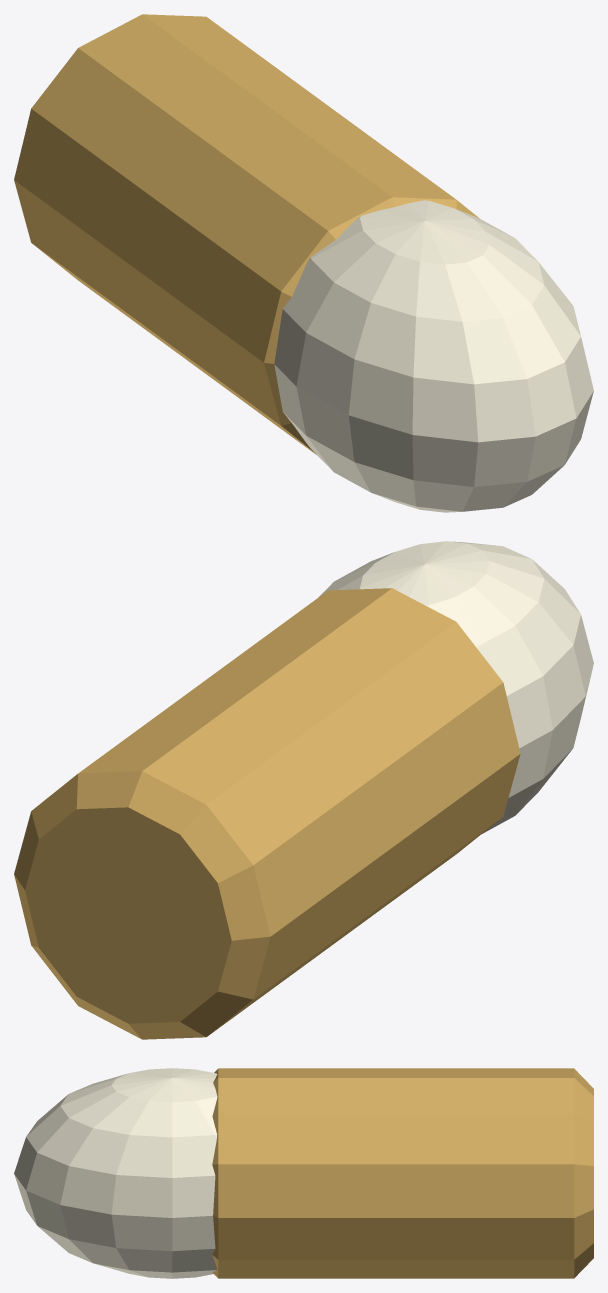
Rendered from shell_standard.glb.
3 views of the same model, one above another, from view 1: azimuth 30°, elevation 25°; view 2: azimuth 150°, elevation 25°; view 3: azimuth 270°, elevation 25° (orthographic). The views are drawn at different scales.
Parts seen in each view (by area): view 1: Shell casing.001, Shell tip.001; view 2: Shell casing.001, Shell tip.001; view 3: Shell casing.001, Shell tip.001.
Part boxes in pixels (box(x1,y1,x2,y2)): Shell casing.001: box(14, 14, 479, 454); Shell tip.001: box(274, 200, 593, 512); Shell casing.001: box(14, 588, 520, 1039); Shell tip.001: box(318, 541, 593, 833); Shell casing.001: box(212, 1068, 593, 1278); Shell tip.001: box(14, 1068, 217, 1278).
Size of the model in its own units: 0.16 by 0.16 by 0.44.
